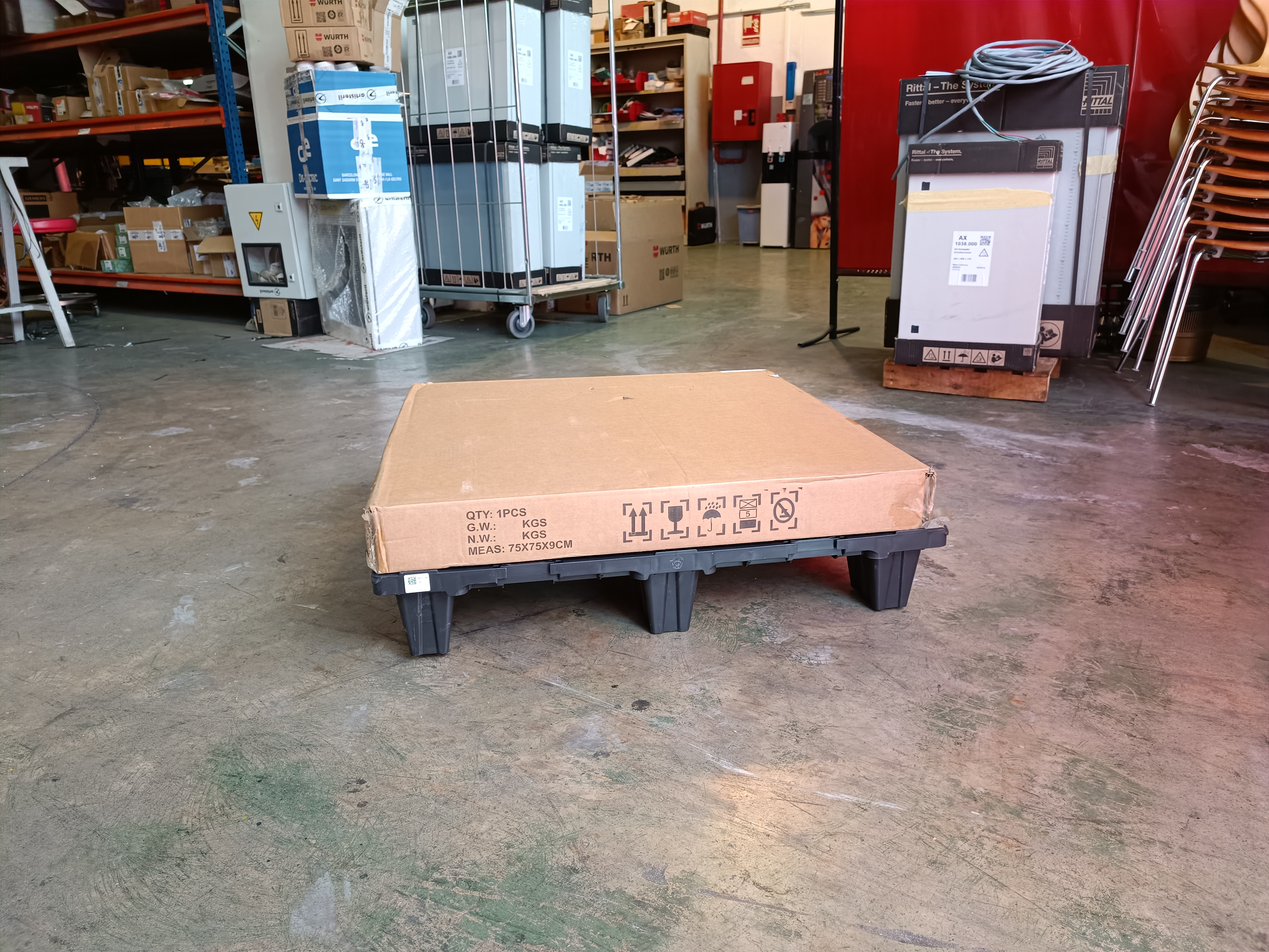block: (370, 533, 963, 666), (381, 591, 463, 660), (639, 571, 707, 638), (868, 542, 931, 613)
hole pallet: (452, 566, 645, 655), (690, 560, 879, 626)
